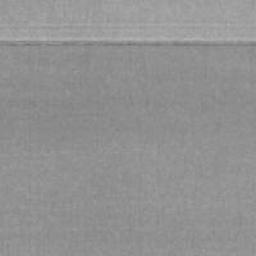Welding line: (0, 41, 256, 52)
